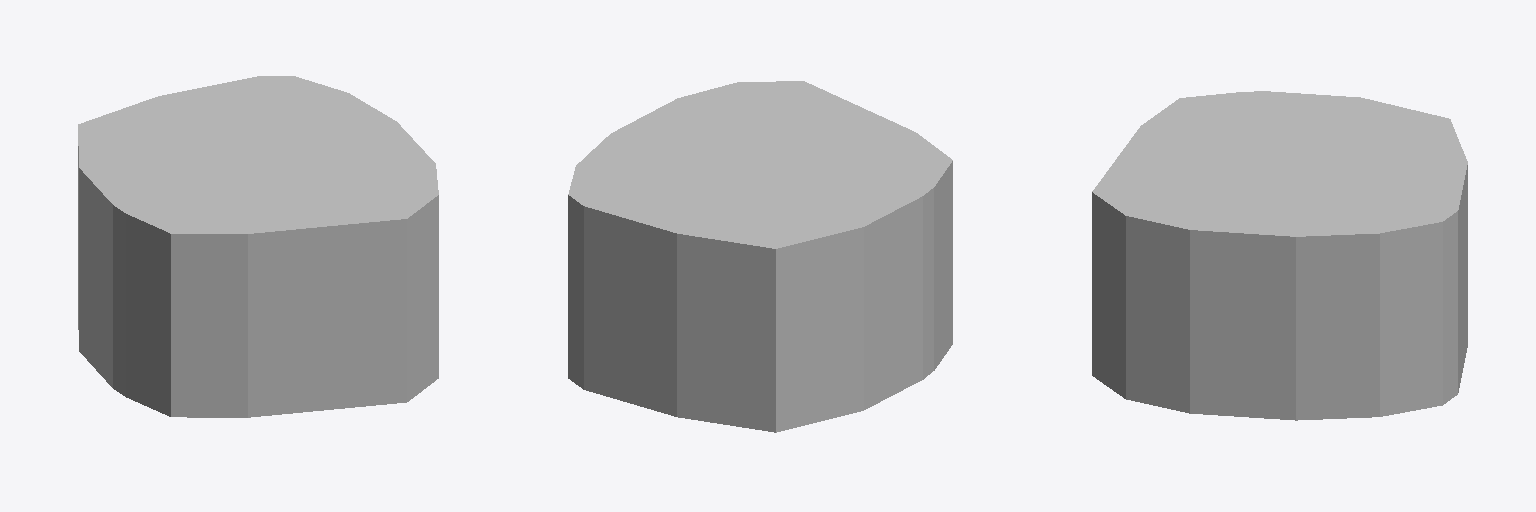
3 views of the same model, side by side, from view 1: azimuth 30°, elevation 25°; view 2: azimuth 150°, elevation 25°; view 3: azimuth 270°, elevation 25° (orthographic).
Visible parts, largest first — view 1: bounding_box; view 2: bounding_box; view 3: bounding_box.
Part boxes in pixels (x1,y1,x2,y2): bounding_box: (78,76,438,417); bounding_box: (568,81,952,432); bounding_box: (1092,91,1467,420).
Size of the model in its own units: 48.84 by 28.89 by 53.27.